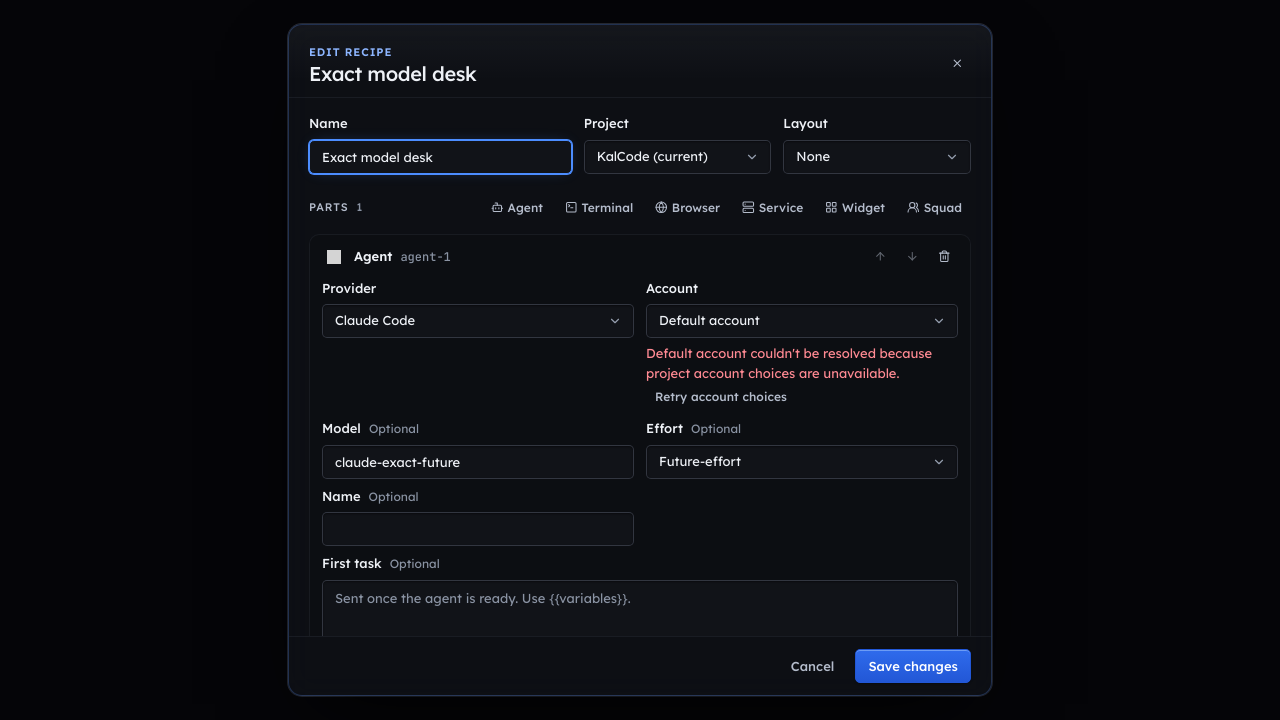
Test: RecipeEditor › keeps an implicit account unresolved and offers retry when bindings cannot be read
Expected: the text "Default account couldn't be resolved" is shown, [646,345,932,380]
What coordinates should you click on to do the following:
click the button "Retry account choices"
I would click on:
 (721, 397)
Its box is [646,383,796,411].
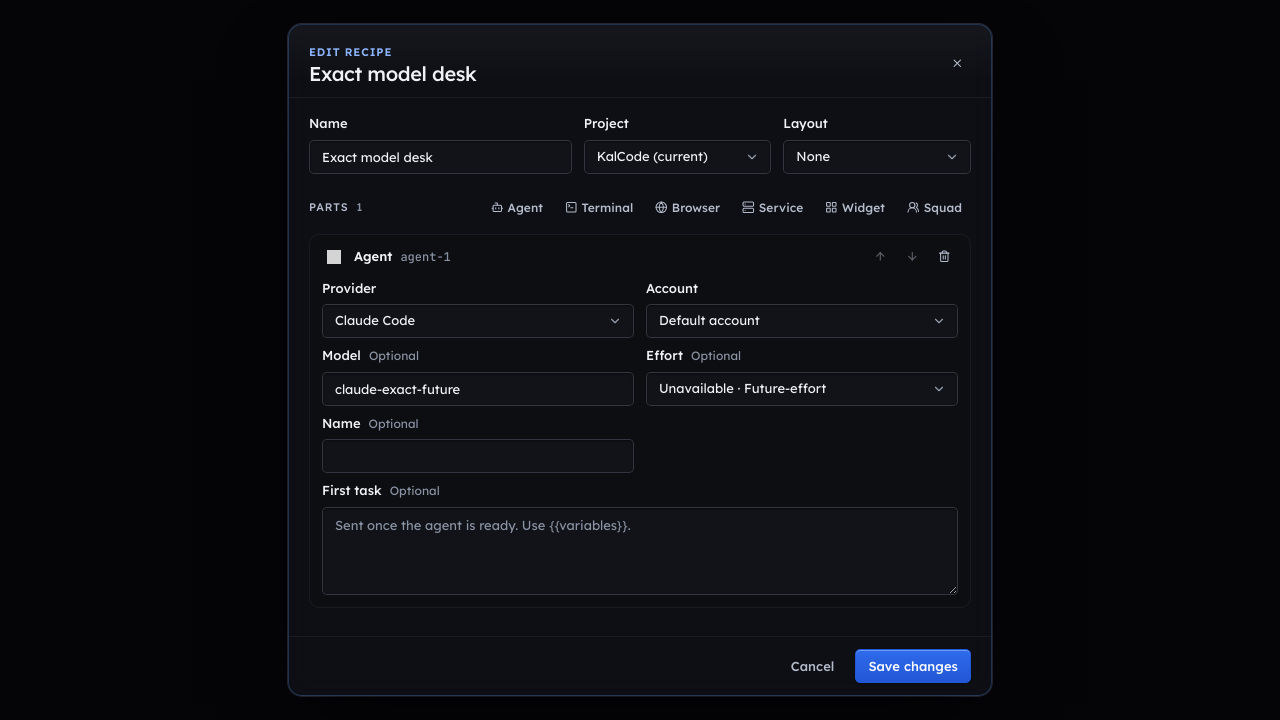
Expected: the text "Default account couldn't be resolved" is gone
